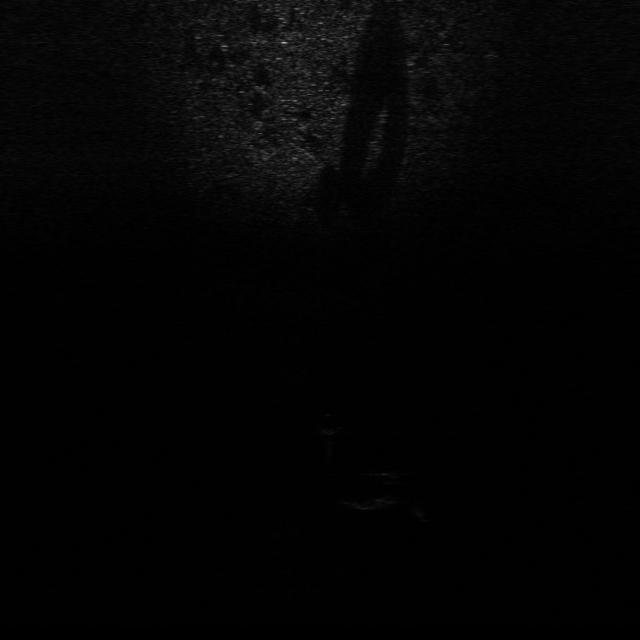ball: (311, 408, 343, 438)
tyre: (334, 468, 414, 514)
